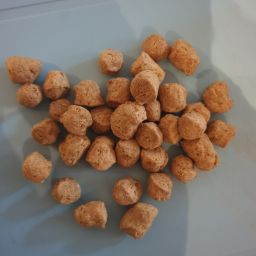Glycine max(soyabean): (5, 23, 242, 256), (113, 105, 184, 217), (178, 78, 239, 171), (127, 34, 203, 102), (8, 52, 73, 113), (58, 137, 152, 179), (110, 182, 166, 243), (80, 47, 140, 102), (71, 193, 115, 232), (18, 147, 54, 184), (55, 175, 84, 203)
